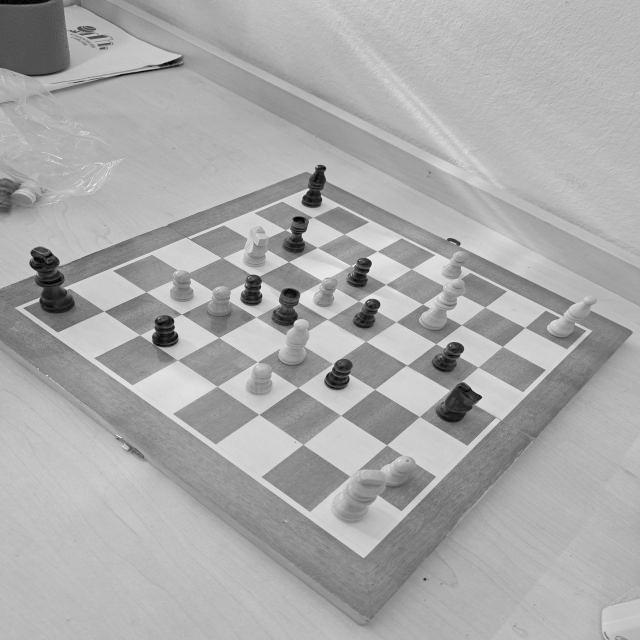chess-table-corners: (348, 539, 378, 560), (10, 299, 38, 318), (295, 184, 324, 198), (578, 326, 594, 337)
